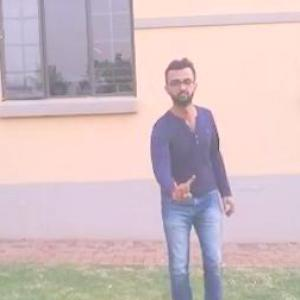takeoff-hand: (160, 165, 198, 206)
